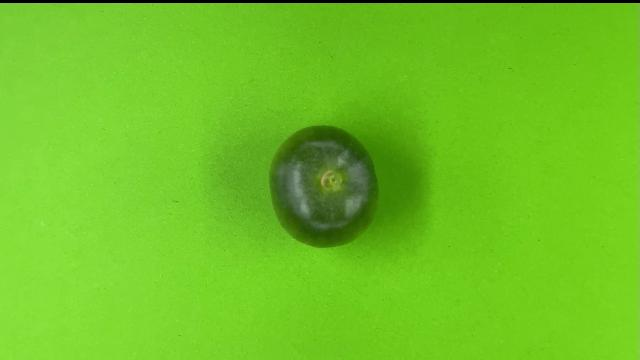Fruit Maturation: (268, 124, 381, 248)
